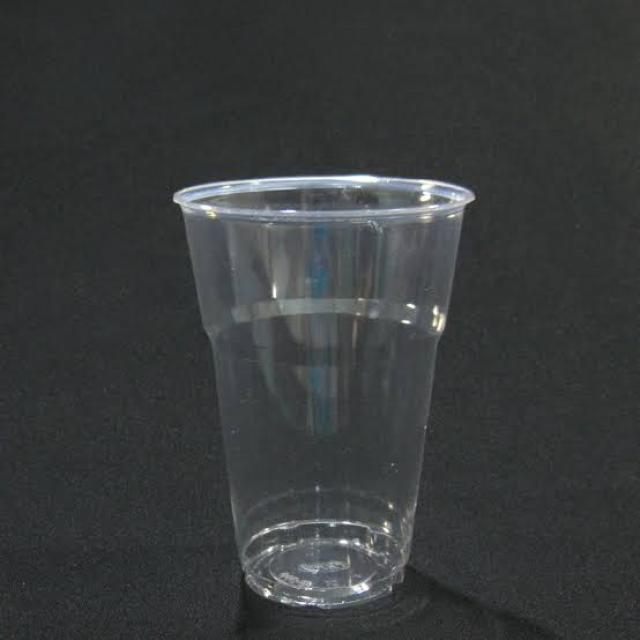plastic cup: (141, 154, 494, 640)
